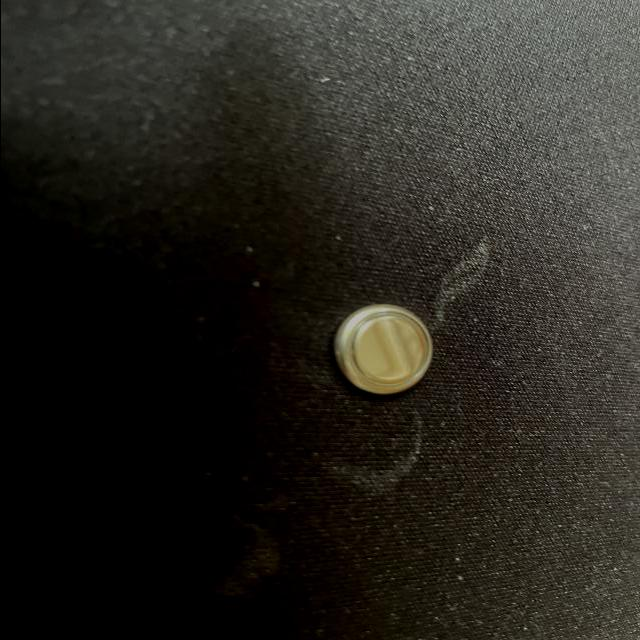COIN: (328, 299, 436, 398)
